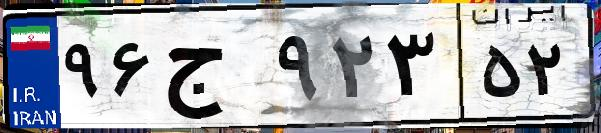2: (330, 28, 385, 110), (525, 38, 570, 115)
3: (385, 28, 445, 110)
5: (475, 38, 525, 113)
6: (110, 28, 158, 98)
9: (270, 28, 330, 110), (57, 26, 110, 100)
ج: (158, 20, 270, 120)
